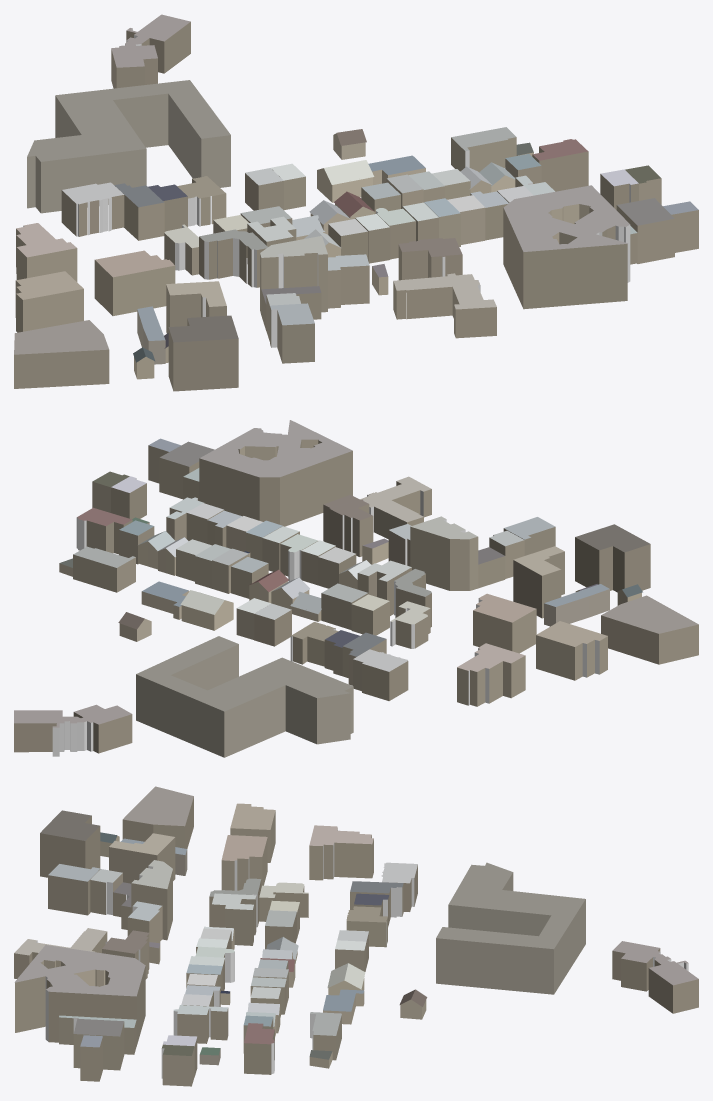
3 views of the same model, one above another, from view 1: azimuth 30°, elevation 25°; view 2: azimuth 150°, elevation 25°; view 3: azimuth 270°, elevation 25° (orthographic). The views are drawn at different scales.
Parts seen in each view (by area): view 1: tuile; view 2: tuile; view 3: tuile.
Part boxes in pixels (bbox=[...]): tuile: bbox=[14, 14, 698, 391]; tuile: bbox=[14, 420, 698, 757]; tuile: bbox=[14, 786, 698, 1086].
Bounding box in the file's own units: 261 × 29.92 × 267.
